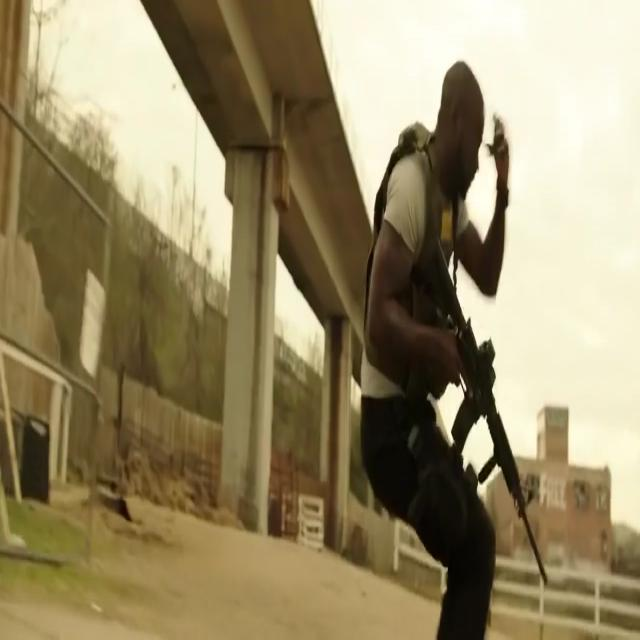Weapon: (399, 210, 574, 640)
